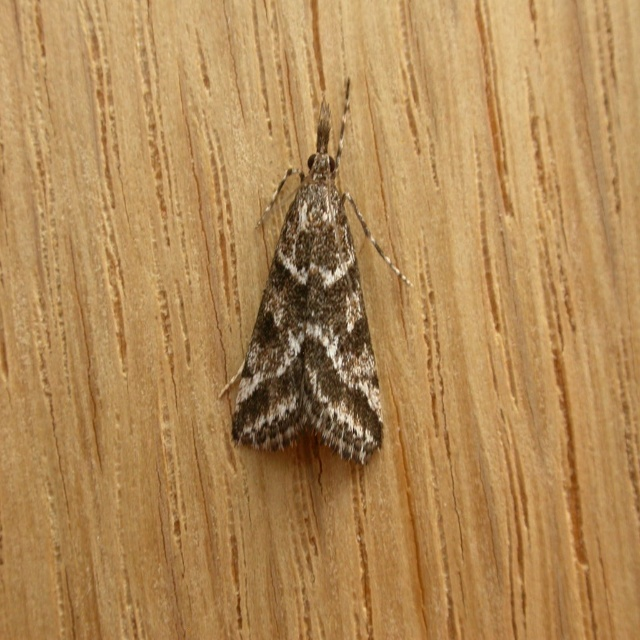Moths and butterflies: (213, 76, 418, 468)
